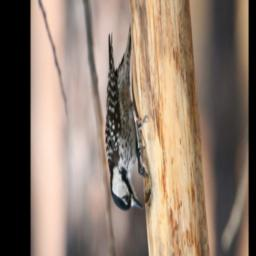Woodpecker: (106, 26, 149, 213)
